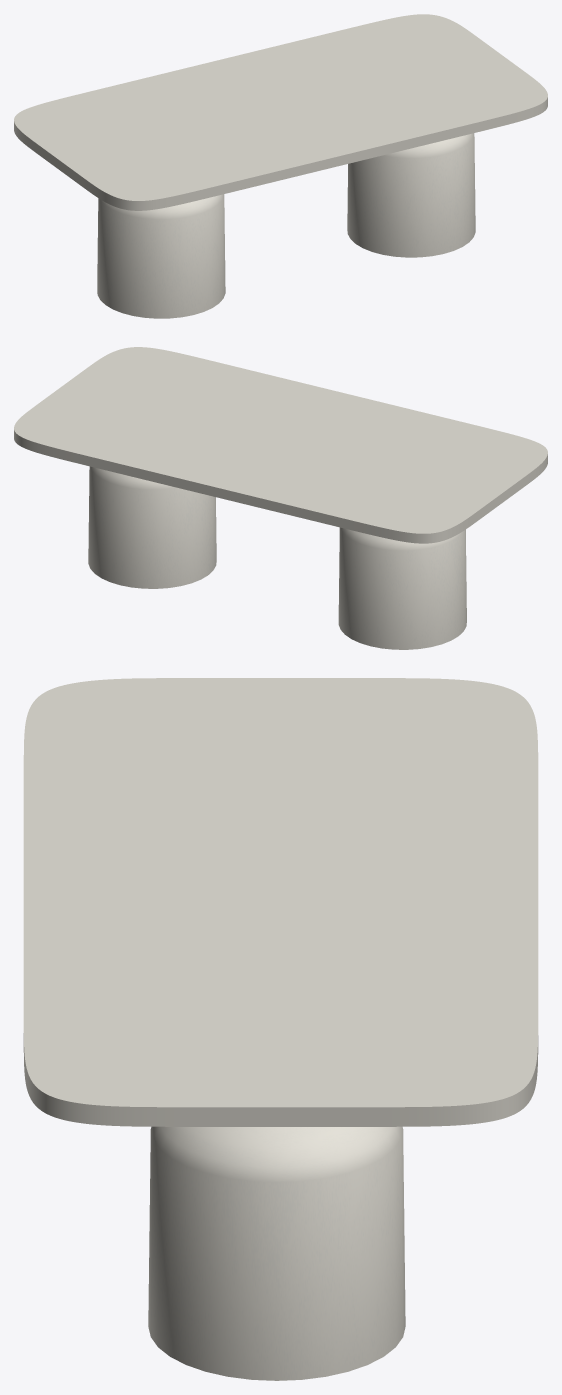
Rendered from pale_softrecta_standard_tornado.glb.
The picture shows the model from 3 angles, top to bottom: view 1: azimuth 30°, elevation 25°; view 2: azimuth 150°, elevation 25°; view 3: azimuth 270°, elevation 25°; orthographic projection. The views are drawn at different scales.
Parts seen in each view (by area): view 1: standard_softrecta, tornado; view 2: standard_softrecta, tornado; view 3: standard_softrecta, tornado.
Boxes of the visible parts, <box> form: standard_softrecta: <box>14,14,547,210</box>; tornado: <box>97,133,475,318</box>; standard_softrecta: <box>14,347,547,543</box>; tornado: <box>88,466,466,649</box>; standard_softrecta: <box>23,678,538,1126</box>; tornado: <box>148,1126,405,1380</box>.
Bounding box in the file's own units: 7.5 × 2.5 × 3.8.
Materials: 1 (1 with a texture image).
